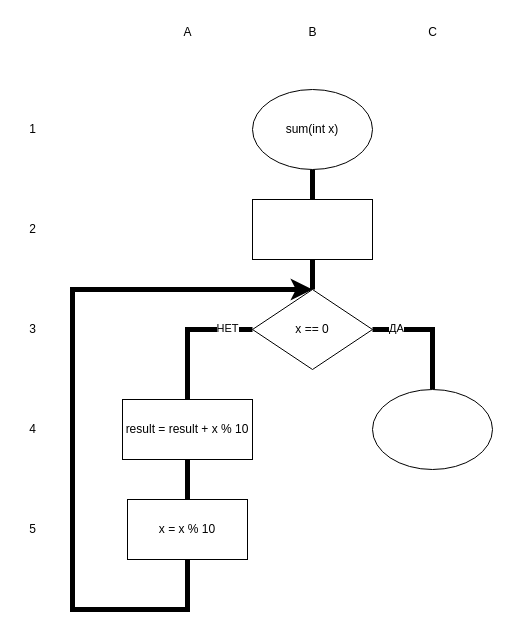
This 510x637 diagram has some shape labels left out. Here are the shapes that lost their labels. From the top down, the box of each, then its label:
(252, 198, 372, 260): result = 0
(372, 388, 492, 470): return result
